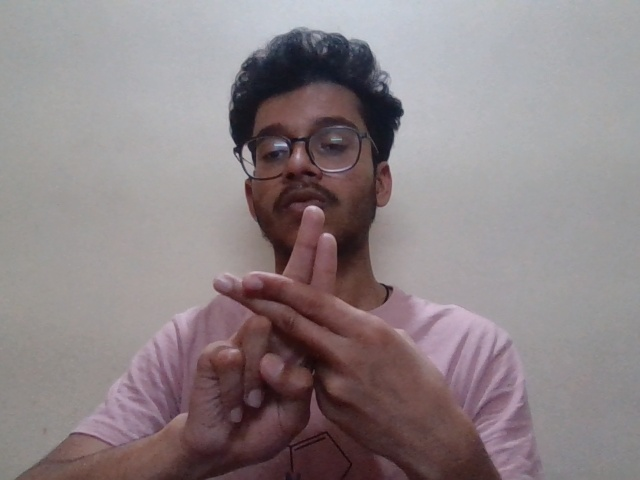disabled: (145, 196, 514, 474)
